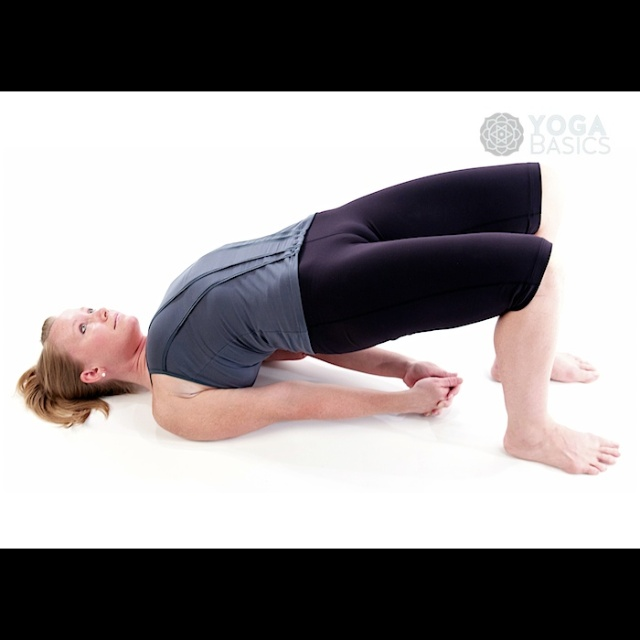Bridge_Pose: (21, 159, 626, 491)
